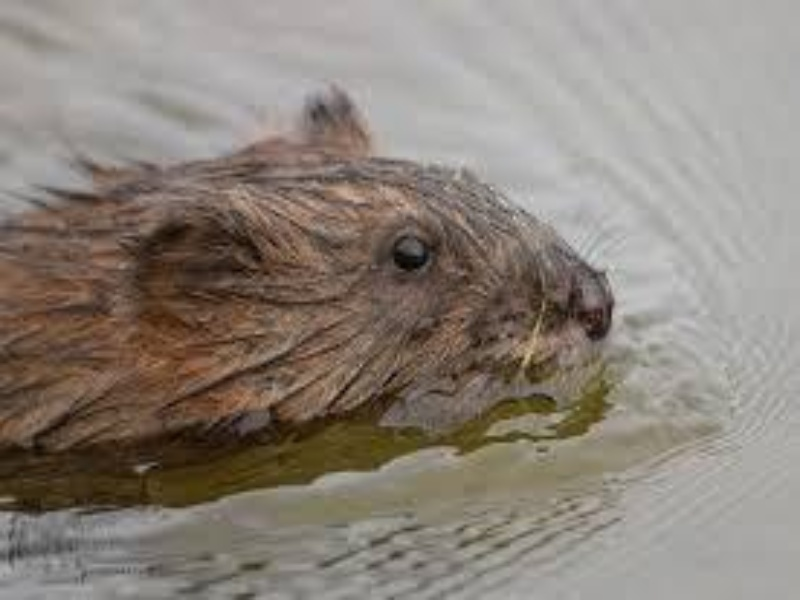minkish: (1, 80, 618, 464)
